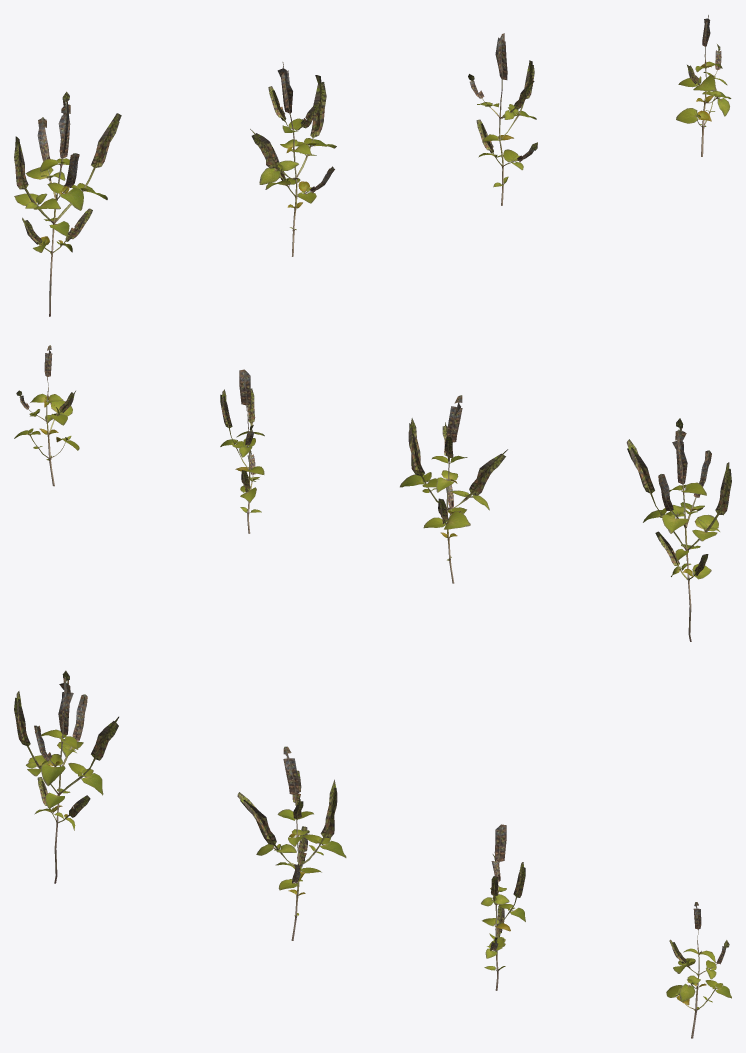
File: shrub.glb
3 views of the same model, one above another, from view 1: azimuth 30°, elevation 25°; view 2: azimuth 150°, elevation 25°; view 3: azimuth 330°, elevation 25° (orthographic). The views are drawn at different scales.
Visible parts, largest first — view 1: shrub_03_a, shrub_03_b, shrub_03_c, shrub_03_d; view 2: shrub_03_a, shrub_03_b, shrub_03_c, shrub_03_d; view 3: shrub_03_a, shrub_03_b, shrub_03_c, shrub_03_d.
Boxes of the visible parts, bbox=[...] form: shrub_03_a: bbox=[14, 91, 121, 316]; shrub_03_b: bbox=[250, 62, 336, 256]; shrub_03_c: bbox=[468, 33, 537, 205]; shrub_03_d: bbox=[676, 15, 731, 156]; shrub_03_a: bbox=[626, 418, 731, 641]; shrub_03_b: bbox=[400, 395, 507, 583]; shrub_03_c: bbox=[220, 369, 264, 533]; shrub_03_d: bbox=[14, 345, 79, 486]; shrub_03_a: bbox=[14, 670, 118, 883]; shrub_03_b: bbox=[237, 746, 346, 940]; shrub_03_c: bbox=[481, 824, 525, 990]; shrub_03_d: bbox=[666, 902, 731, 1038].
Bounding box in the file's own units: 1.37 × 0.4028 × 0.1512.
1 material, 1 textured.
